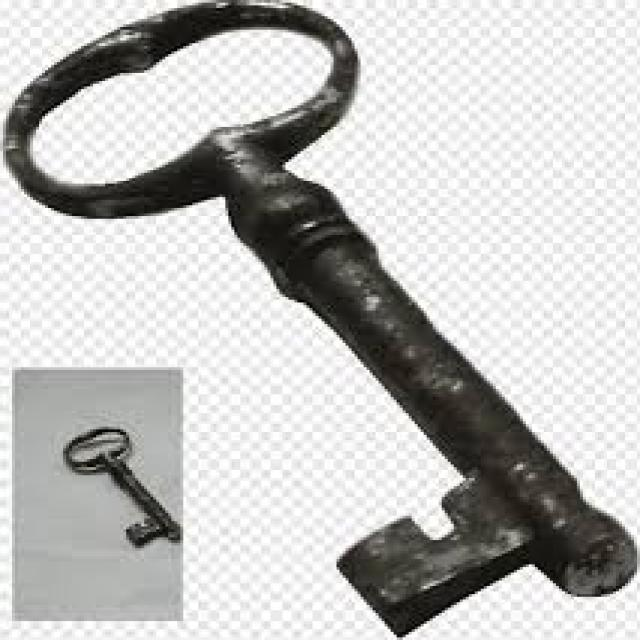key: (48, 416, 190, 580)
